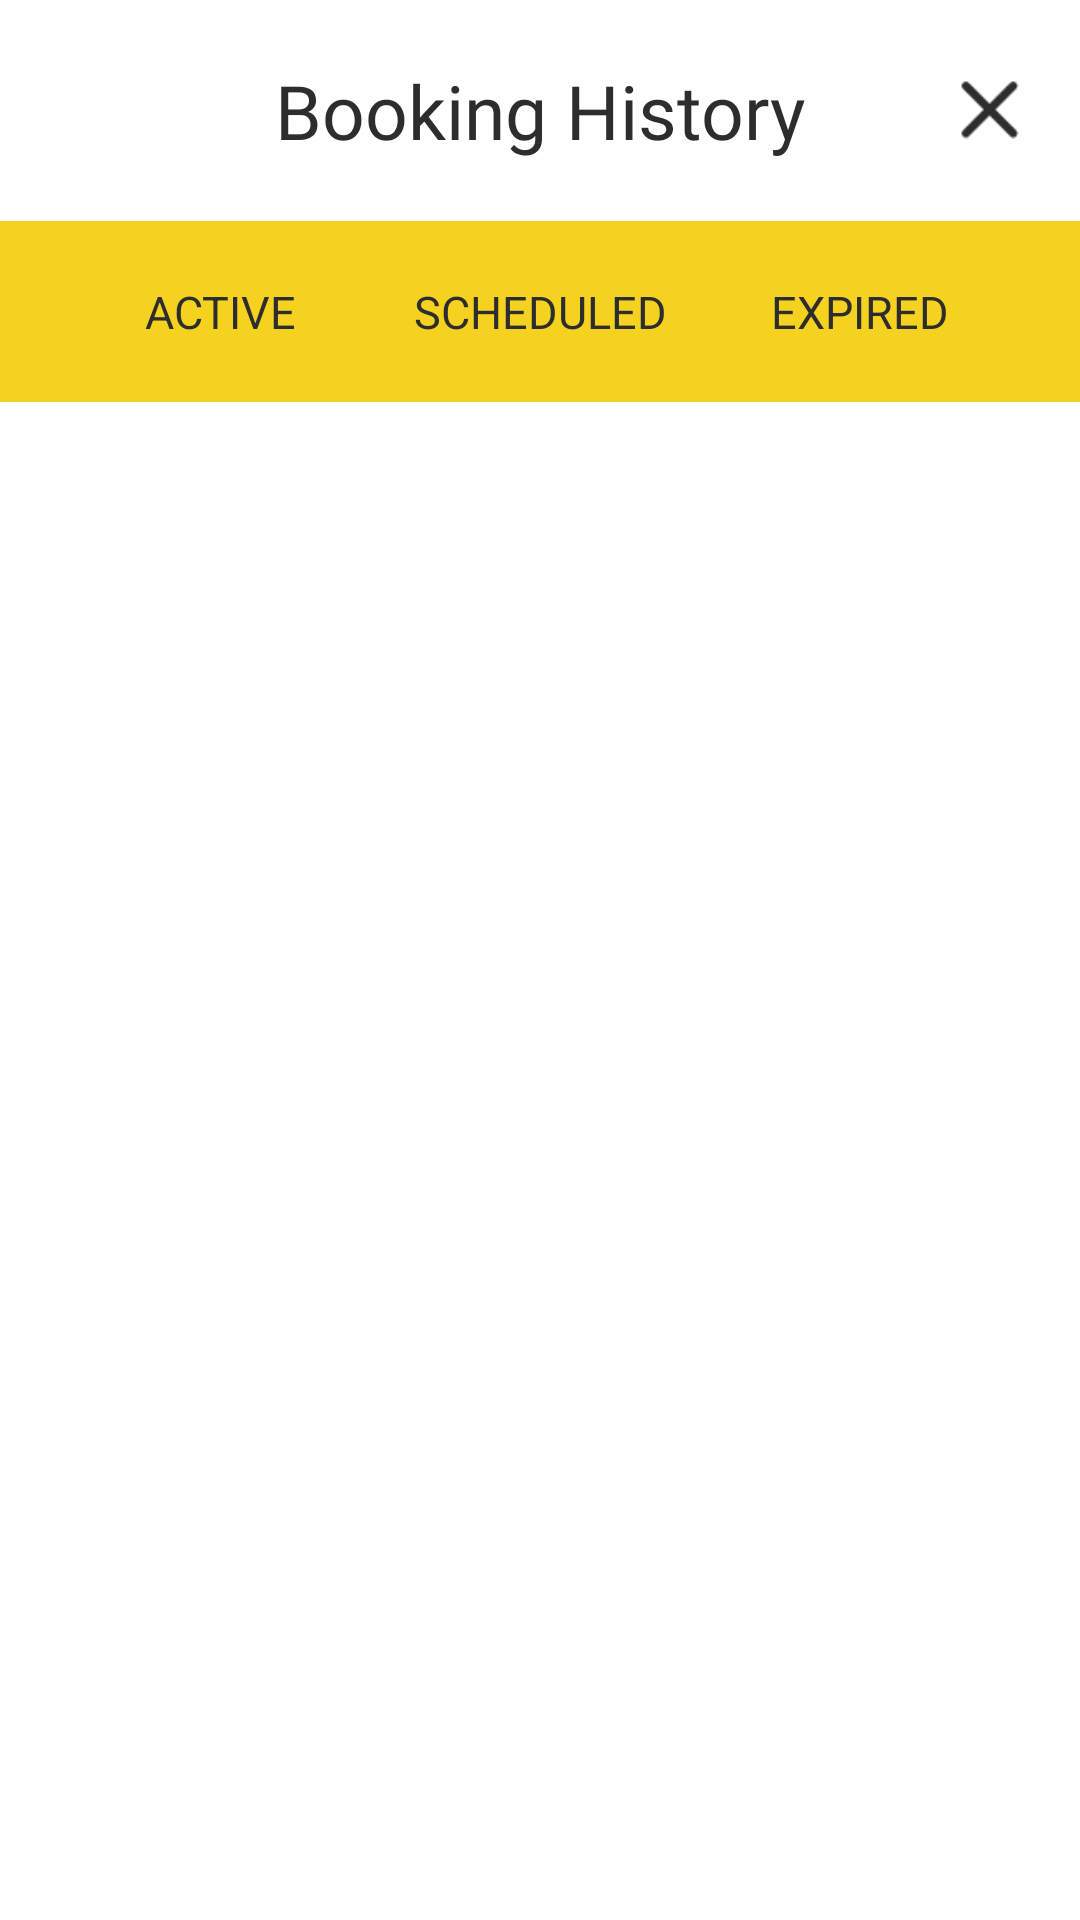

Icons on this 1080*1920 Android screen, each with the point to tap as point (x, y):
close: point (990, 110)
